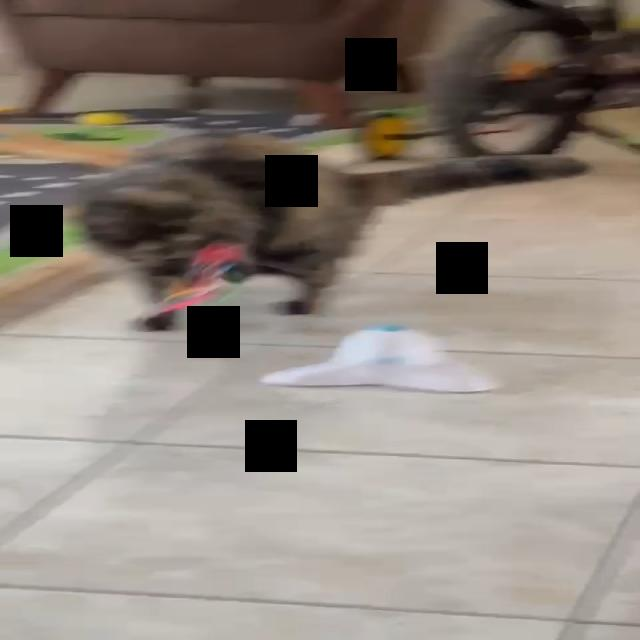authorized: (71, 132, 589, 332)
